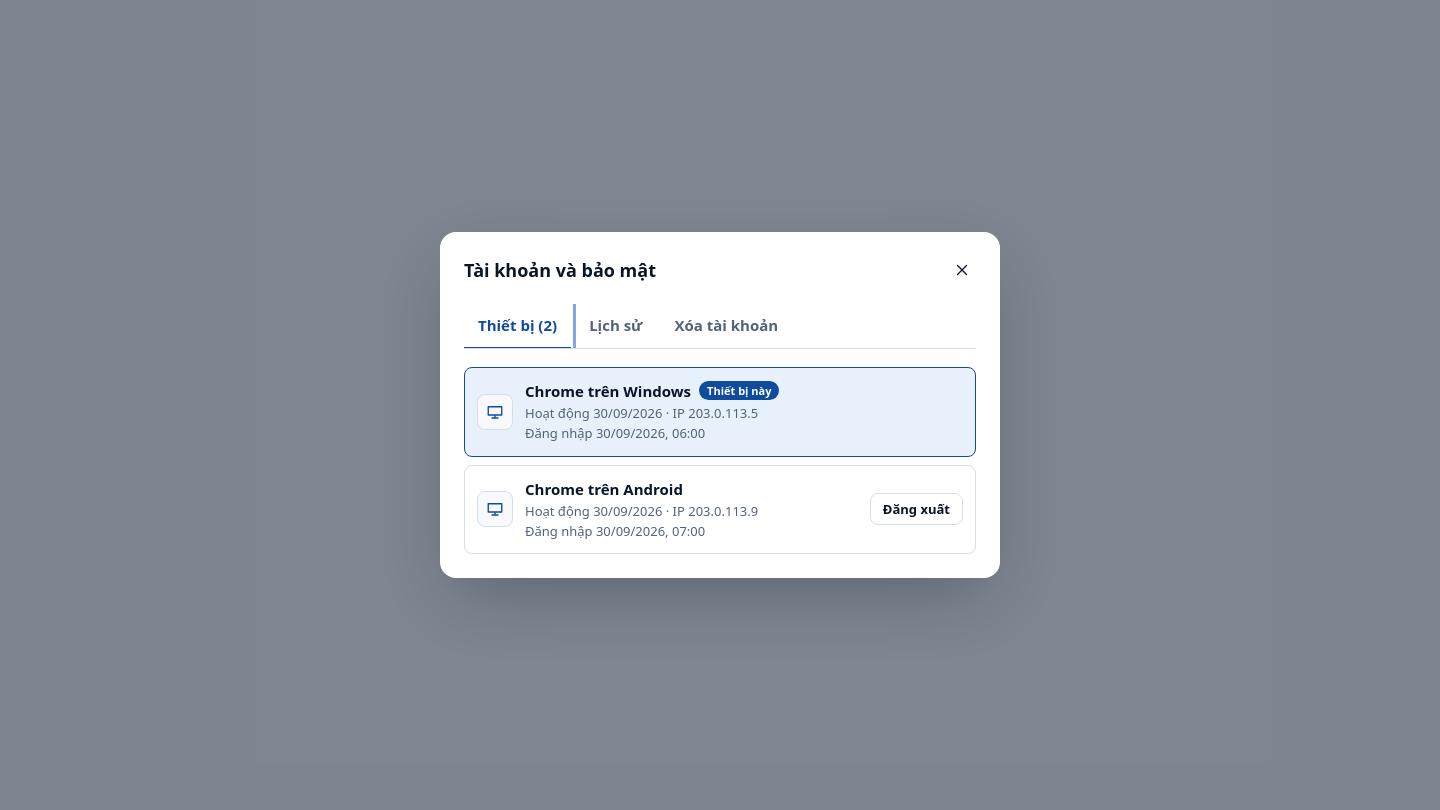
it: SessionsDialog: thiết bị, lịch sử, xóa tài khoản › đăng xuất thiết bị khác phải nhập lại mật khẩu; sai thì báo, không đóng hộp
The image size is (1440, 810).
Click the button "Đăng xuất" at (916,509), box [870,493,963,525]
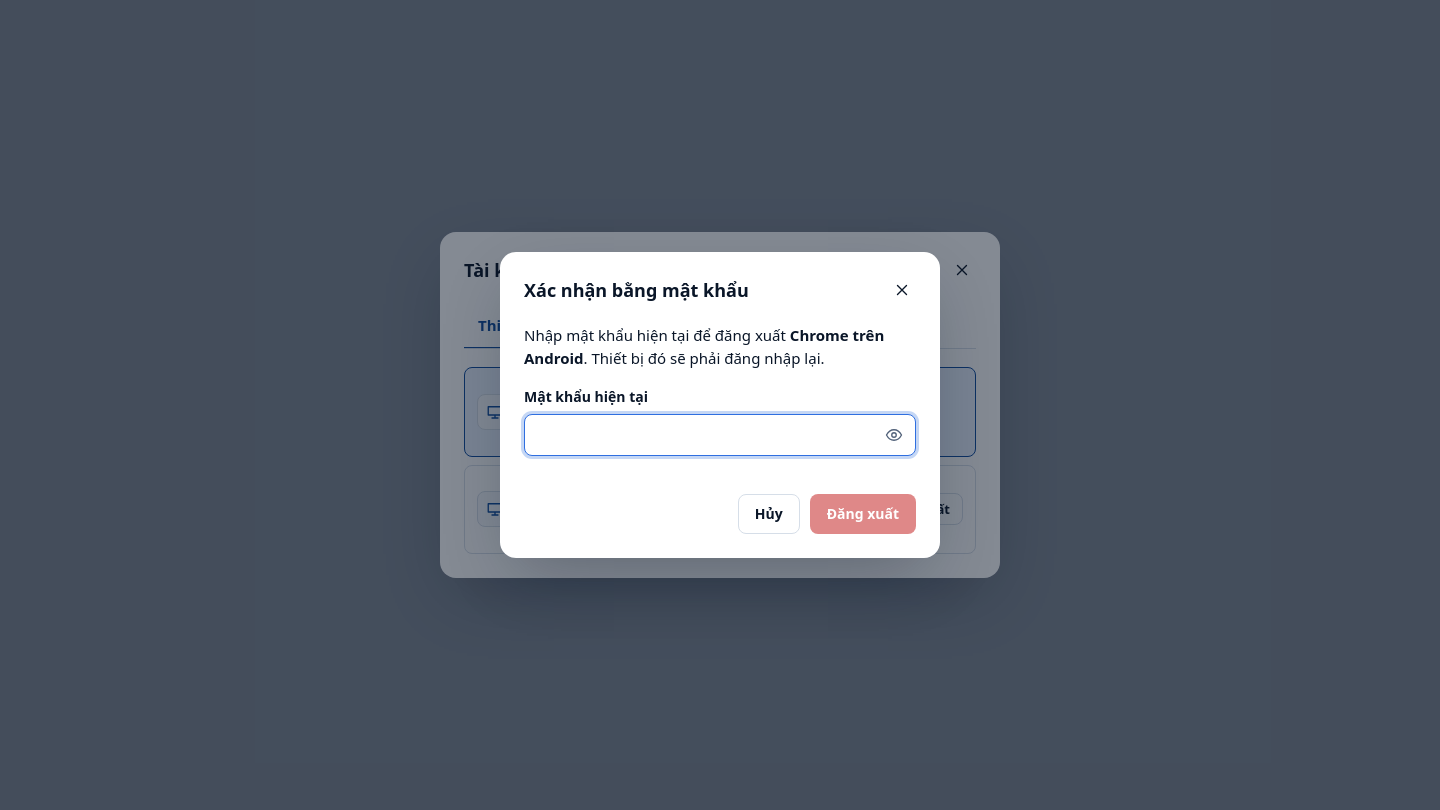
Now the button "Đăng xuất" is disabled, box [810,494,916,534]
Type "mat-khau-sai" into the password field labelled "Mật khẩu hiện tại" at (720,435), box [524,414,916,456]
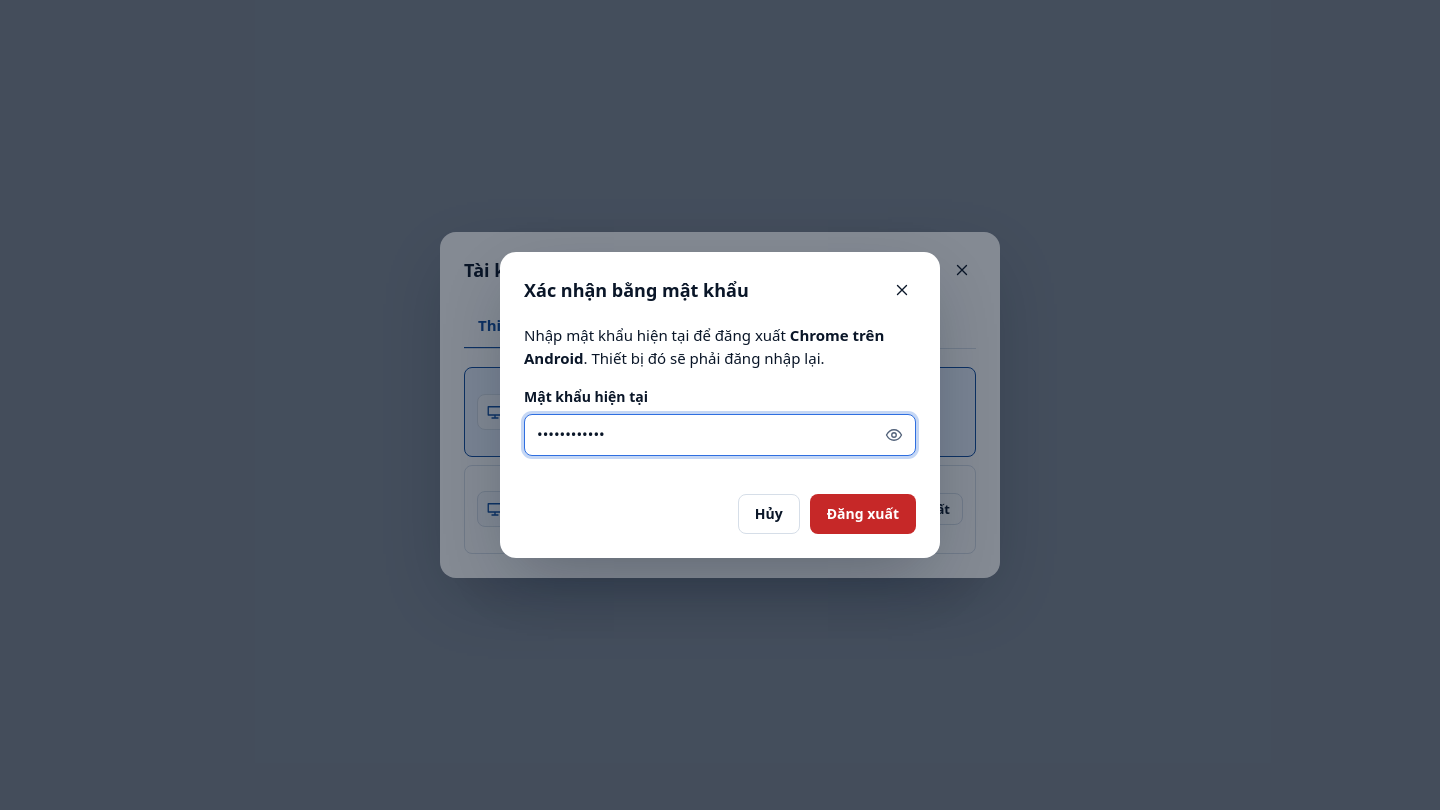
Click the button "Đăng xuất" at (863,514), box [810,494,916,534]
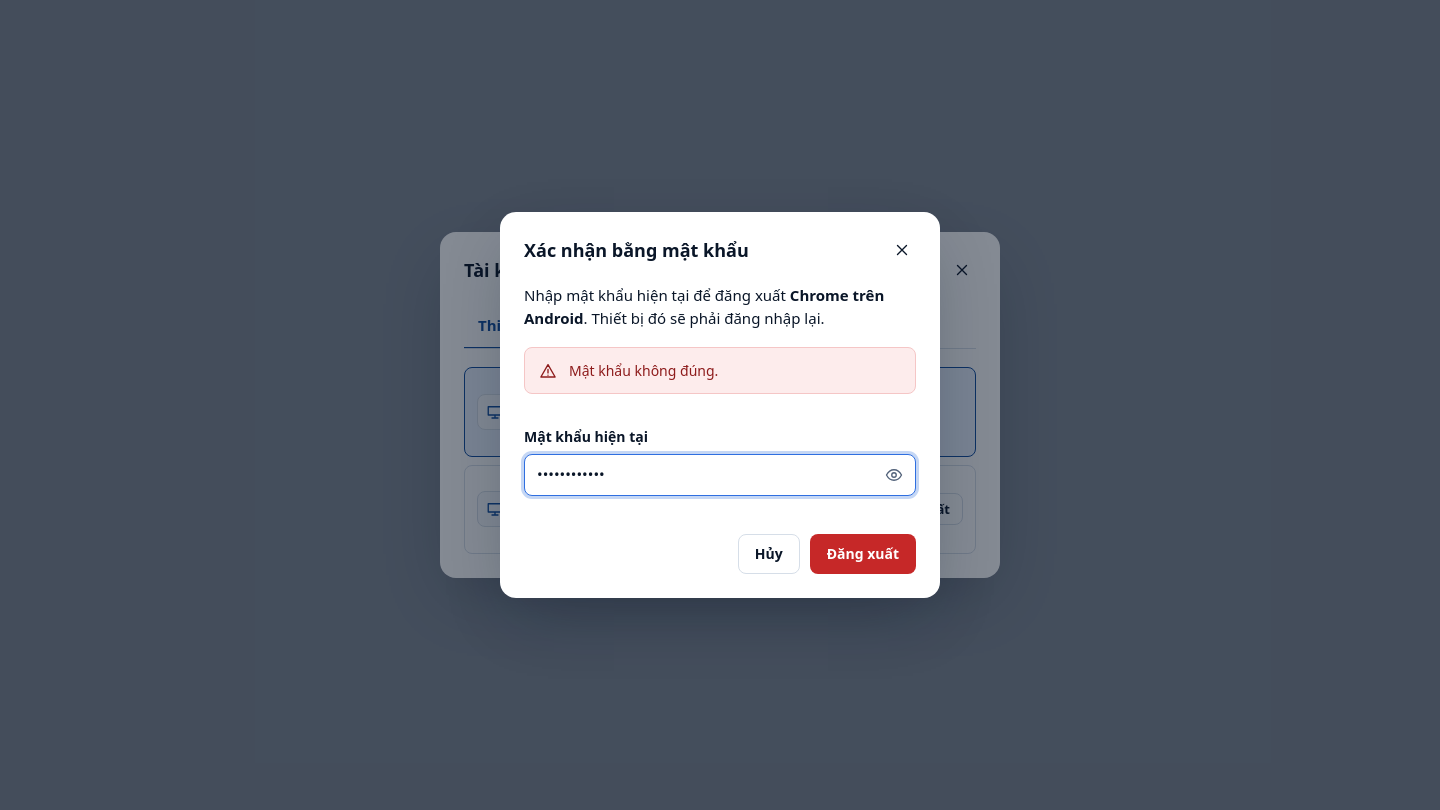
Now the heading "Xác nhận bằng mật khẩu" is shown, box [524,239,749,261]
Now the text "Mật khẩu không đúng." is shown, box [569,361,718,380]
